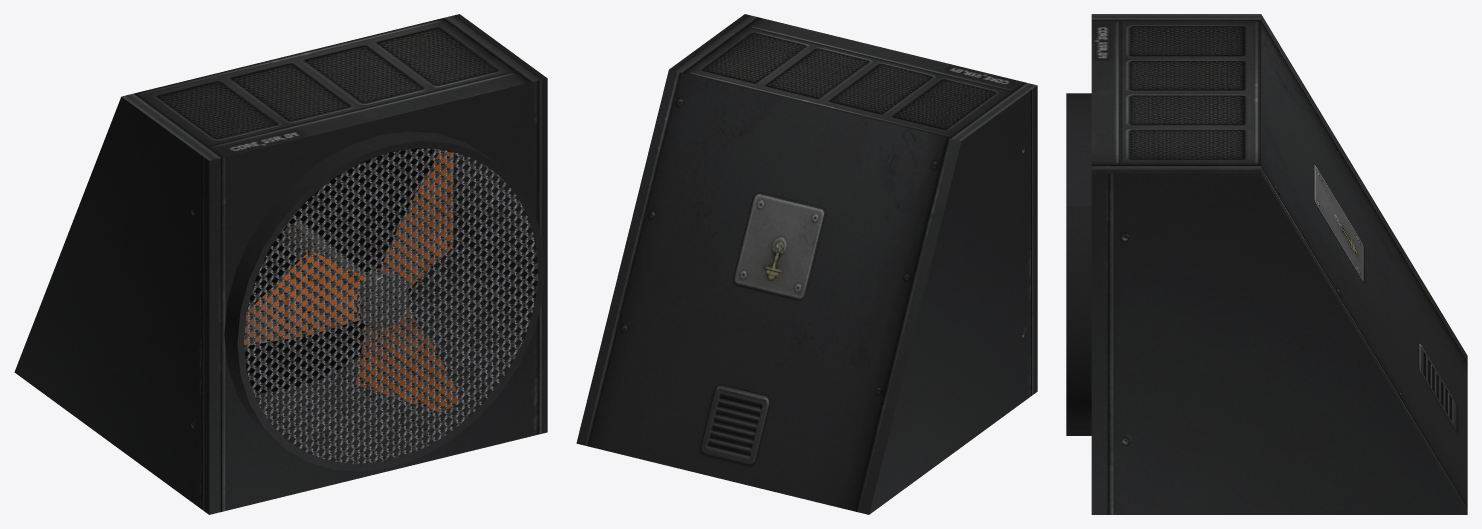
File: vent.glb
3 renders of one model, left to right at view 1: azimuth 30°, elevation 25°; view 2: azimuth 150°, elevation 25°; view 3: azimuth 270°, elevation 25°, orthographic. The views are drawn at different scales.
Visible parts, largest first — view 1: VentBody, VentGrid, VentFan; view 2: VentBody; view 3: VentBody.
Part boxes in pixels (left/top/right/bottom): VentBody: left=14, top=14, right=547, bottom=514; VentGrid: left=244, top=148, right=537, bottom=463; VentFan: left=244, top=150, right=459, bottom=411; VentBody: left=576, top=14, right=1037, bottom=514; VentBody: left=1066, top=14, right=1467, bottom=514.
Bounding box in the file's own units: 1 × 1 × 1.06.
Materials: 4 (3 with a texture image).
